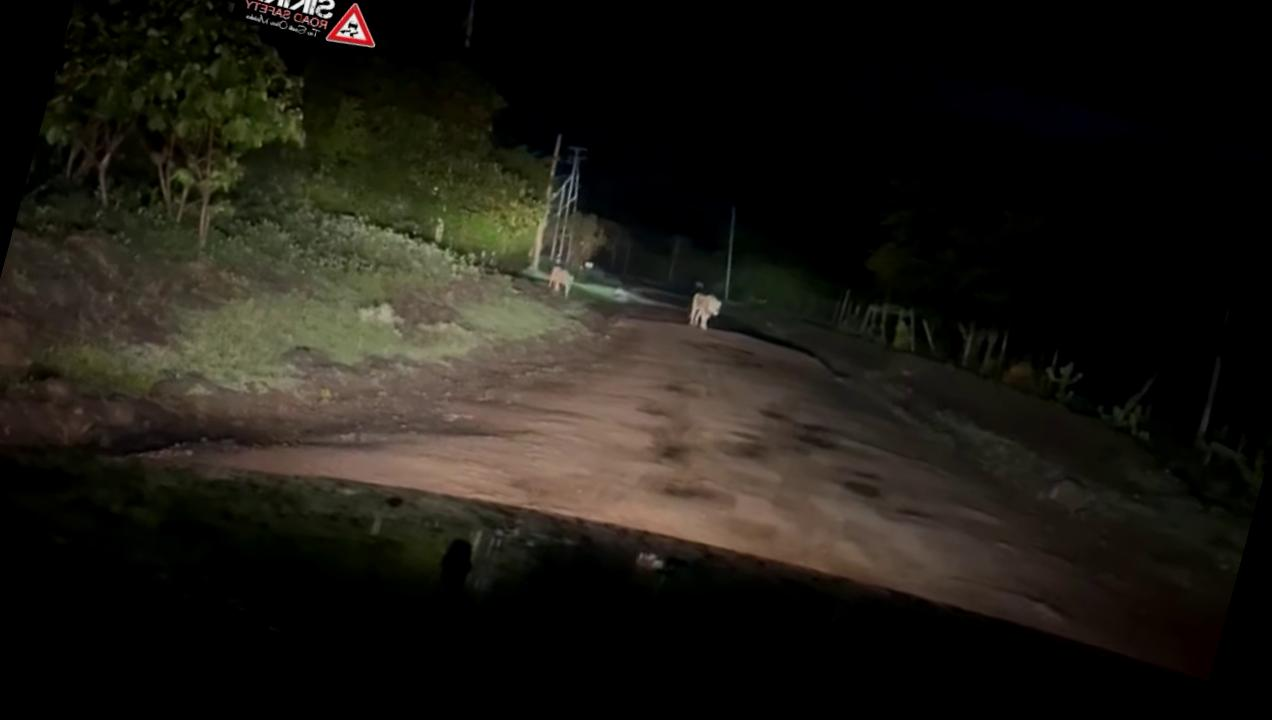lions: (675, 266, 744, 352), (533, 254, 591, 319)
